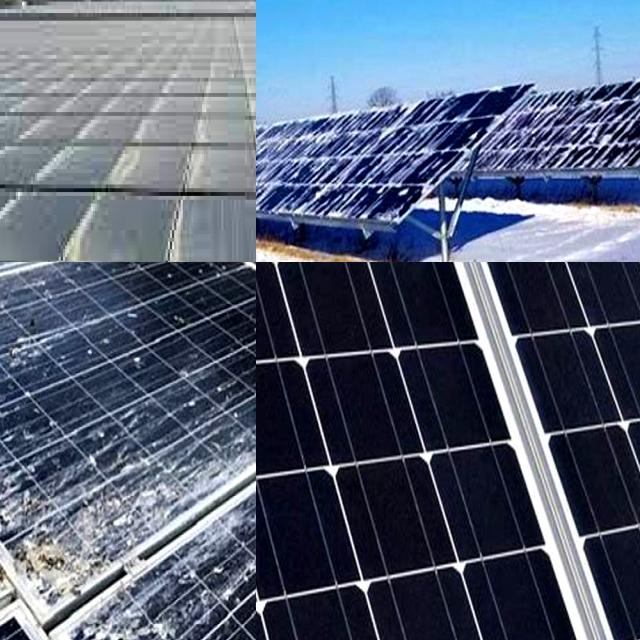bird: (0, 514, 104, 607), (112, 466, 215, 511), (0, 411, 33, 520), (74, 617, 197, 640), (0, 309, 36, 375), (230, 309, 256, 347), (0, 505, 22, 544)
crack: (256, 262, 621, 640), (416, 262, 640, 640)
dust: (148, 172, 249, 262), (56, 175, 130, 262), (0, 154, 49, 262)
panel: (293, 170, 405, 227), (398, 106, 469, 163), (519, 102, 577, 168), (300, 120, 405, 154), (599, 85, 640, 161), (256, 129, 303, 166), (256, 181, 299, 212), (256, 178, 298, 205), (256, 135, 281, 168)
